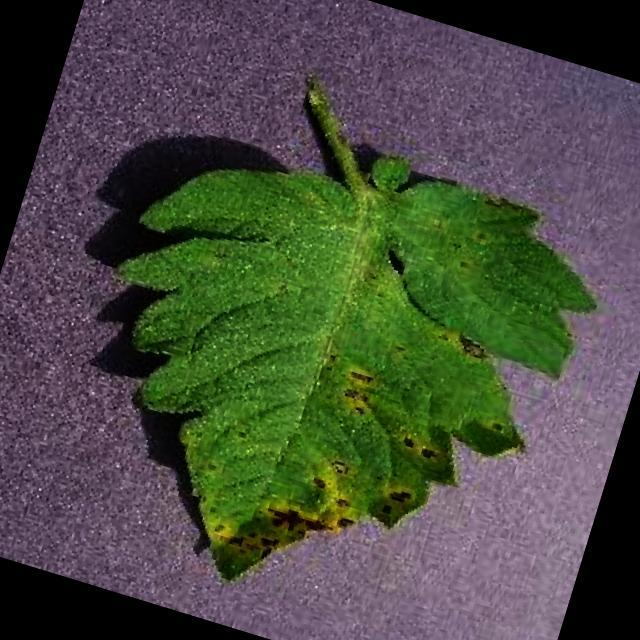Tomato Septoria spot leaf: (41, 86, 620, 640)
